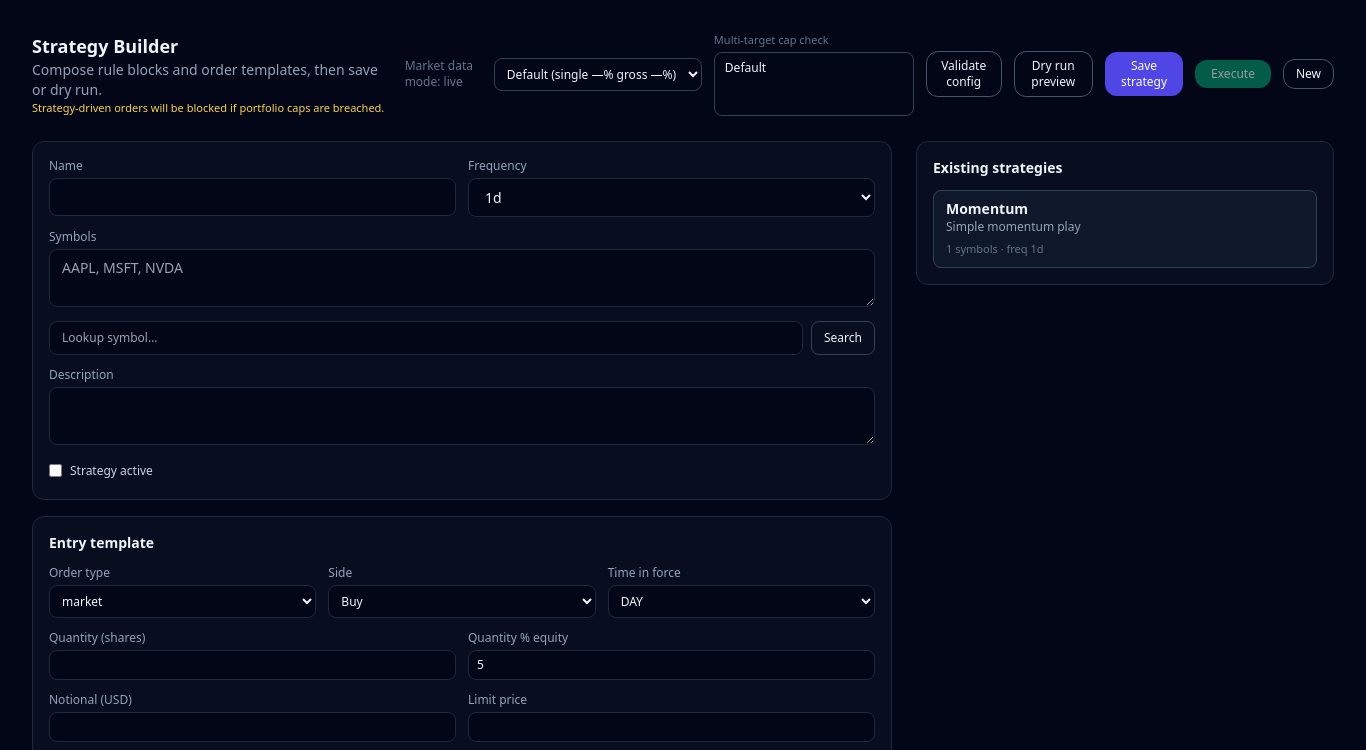
StrategyBuilder › surfaces API errors when execution fails
The image size is (1366, 750).
Click the text "Momentum": point(987, 208) [946, 198, 1028, 218]
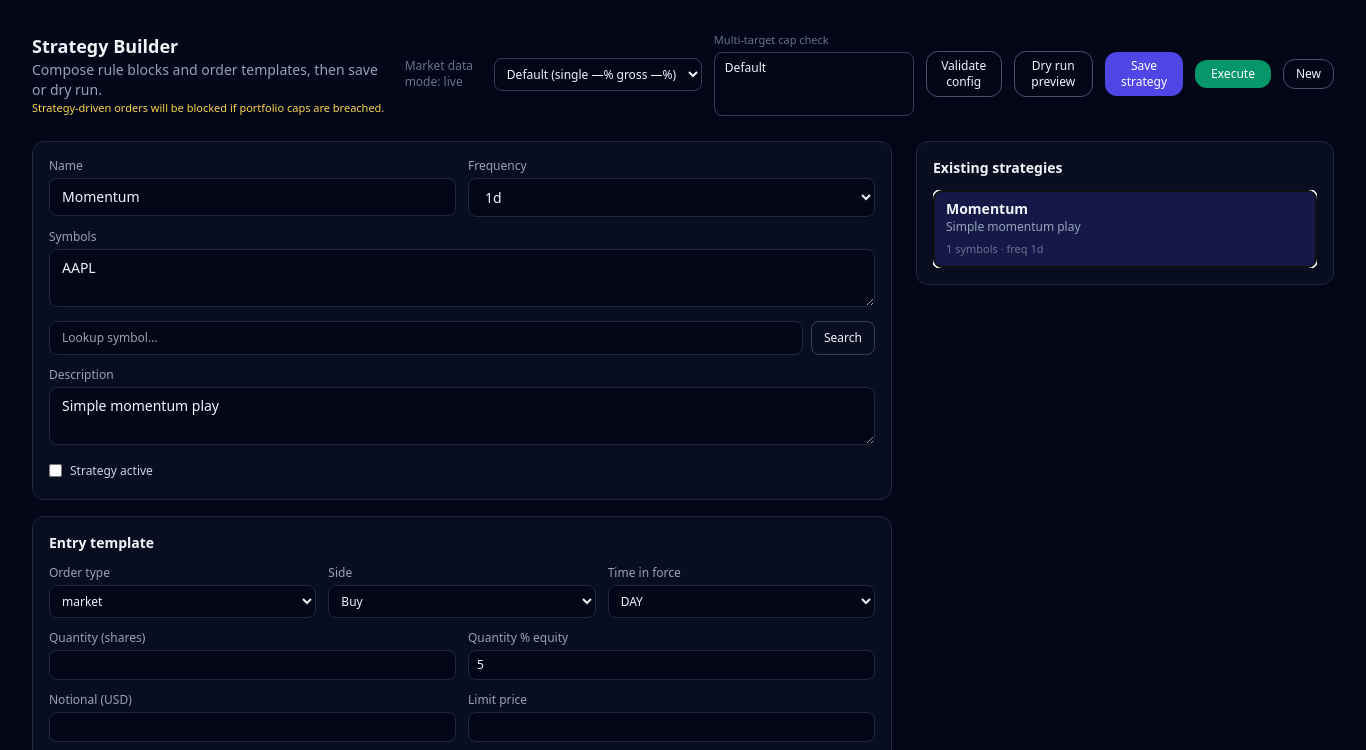
Click the button "Execute": point(1233, 74) [1195, 60, 1271, 88]
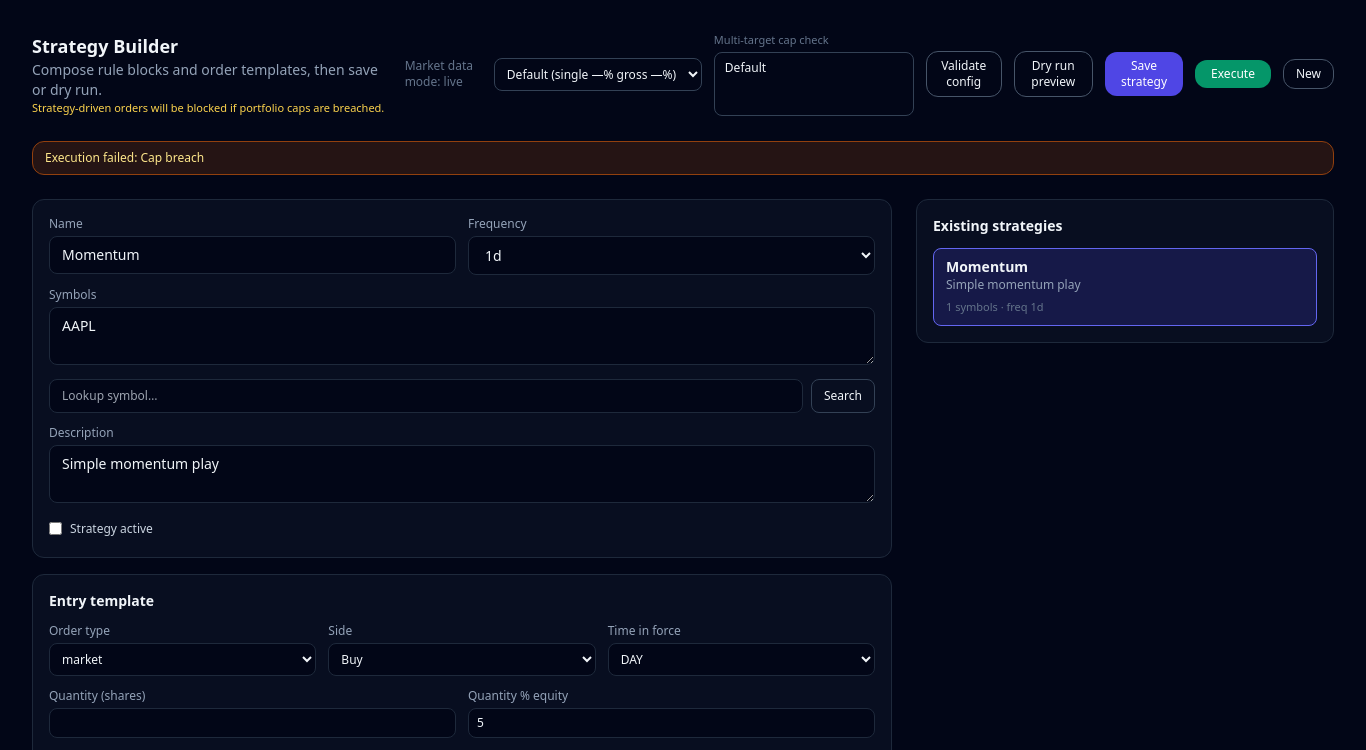
Now the text "Execution failed: Cap breach" is shown, box [32, 140, 1334, 174]
